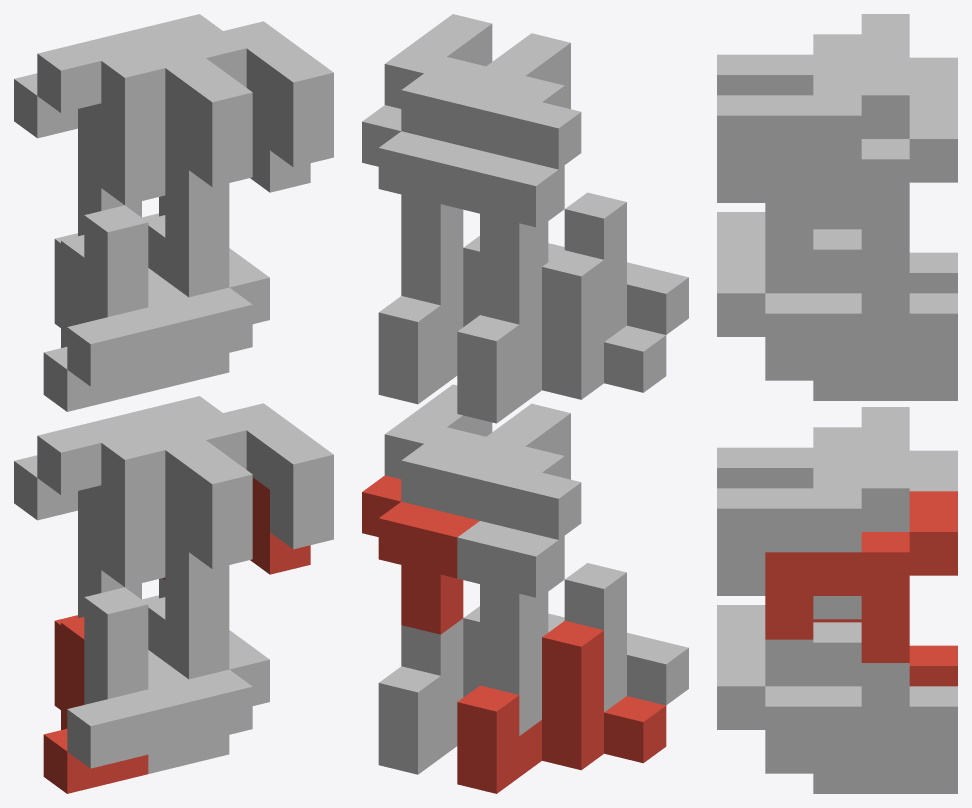
Rendered from tiling.obj.
The picture shows the model from 3 angles, left to right: view 1: azimuth 30°, elevation 25°; view 2: azimuth 150°, elevation 25°; view 3: azimuth 270°, elevation 25°; orthographic projection. The views are drawn at different scales.
Parts seen in each view (by area): view 1: copy_2_domain_4, copy_2_domain_2, copy_1_domain_2, copy_1_domain_4, copy_2_domain_6, copy_2_domain_8, copy_1_domain_6, copy_1_domain_8, copy_2_domain_3, copy_2_domain_1, copy_1_domain_3, copy_1_domain_1 (+4 smaller); view 2: copy_1_domain_3, copy_1_domain_1, copy_1_domain_2, copy_1_domain_4, copy_2_domain_4, copy_2_domain_2, copy_2_domain_8, copy_2_domain_5, copy_2_domain_7, copy_2_domain_6, copy_2_domain_3, copy_2_domain_1 (+4 smaller); view 3: copy_2_domain_6, copy_2_domain_8, copy_1_domain_6, copy_1_domain_8, copy_2_domain_5, copy_2_domain_7, copy_1_domain_5, copy_1_domain_7, copy_2_domain_2, copy_2_domain_4, copy_1_domain_1, copy_1_domain_3 (+4 smaller).
Boxes of the visible parts, <box> form: copy_2_domain_4: <box>37,34,252,204</box>; copy_2_domain_2: <box>37,416,252,586</box>; copy_1_domain_2: <box>67,587,188,768</box>; copy_1_domain_4: <box>67,205,188,386</box>; copy_2_domain_6: <box>119,396,333,549</box>; copy_2_domain_8: <box>119,14,333,167</box>; copy_1_domain_6: <box>149,577,269,748</box>; copy_1_domain_8: <box>149,195,269,366</box>; copy_2_domain_3: <box>14,73,229,217</box>; copy_2_domain_1: <box>14,455,229,599</box>; copy_1_domain_3: <box>43,233,148,411</box>; copy_1_domain_1: <box>43,615,148,793</box>; copy_1_domain_3: <box>457,250,666,423</box>; copy_1_domain_1: <box>457,620,666,793</box>; copy_1_domain_2: <box>480,563,688,735</box>; copy_1_domain_4: <box>480,192,688,365</box>; copy_2_domain_4: <box>464,33,581,225</box>; copy_2_domain_2: <box>464,403,581,595</box>; copy_2_domain_8: <box>384,14,502,150</box>; copy_2_domain_5: <box>362,475,479,634</box>; copy_2_domain_7: <box>362,105,479,264</box>; copy_2_domain_6: <box>384,384,502,520</box>; copy_2_domain_3: <box>457,150,558,283</box>; copy_2_domain_1: <box>457,521,558,653</box>; copy_2_domain_6: <box>717,447,909,619</box>; copy_2_domain_8: <box>717,54,909,226</box>; copy_1_domain_6: <box>717,639,909,750</box>; copy_1_domain_8: <box>717,246,909,357</box>; copy_2_domain_5: <box>765,491,957,662</box>; copy_2_domain_7: <box>765,98,957,269</box>; copy_1_domain_5: <box>765,622,957,793</box>; copy_1_domain_7: <box>765,229,957,400</box>; copy_2_domain_2: <box>717,407,909,488</box>; copy_2_domain_4: <box>717,14,909,95</box>; copy_1_domain_1: <box>813,619,957,686</box>; copy_1_domain_3: <box>813,226,957,293</box>.
Size of the model in its own units: 6 by 16 by 5.
